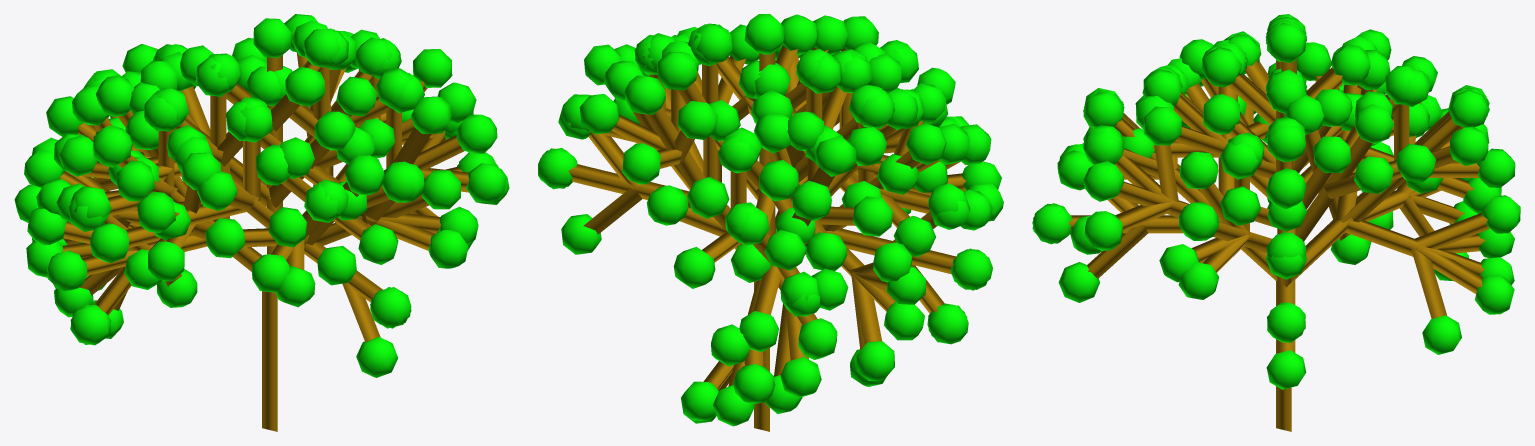
The model's file is cherry.glb.
3 views of the same model, side by side, from view 1: azimuth 30°, elevation 25°; view 2: azimuth 150°, elevation 25°; view 3: azimuth 270°, elevation 25° (orthographic). The views are drawn at different scales.
Visible parts, largest first — view 1: Mesh_1; view 2: Mesh_1; view 3: Mesh_1.
Boxes of the visible parts, x1,y1,x2,y2 form: Mesh_1: (14, 14, 509, 431); Mesh_1: (538, 14, 1003, 431); Mesh_1: (1032, 14, 1520, 431).
Size of the model in its own units: 0.2445 by 0.2133 by 0.2346.
